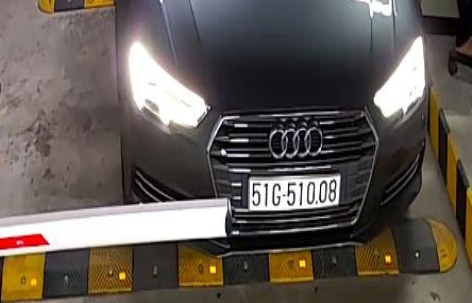plate: (246, 166, 340, 213)
